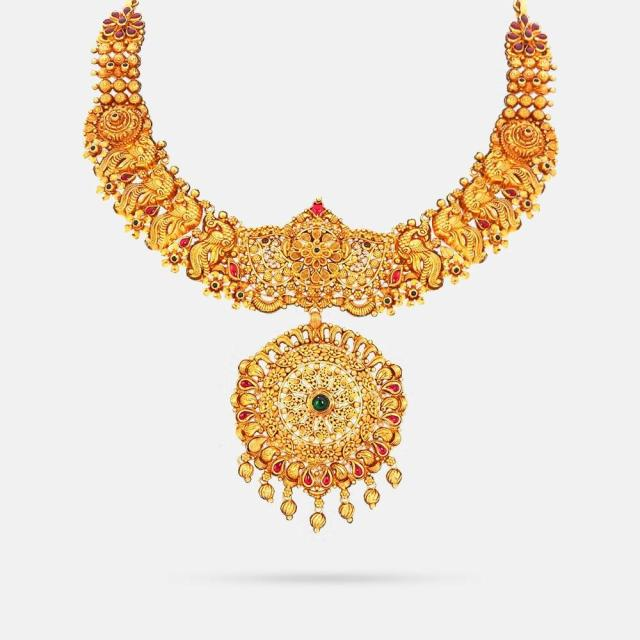missing gem: (250, 439, 264, 450), (441, 247, 452, 257)
